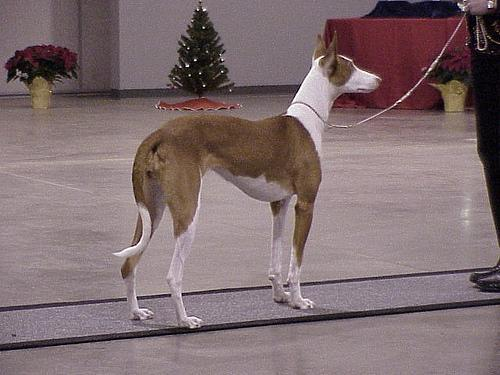Ibizan_hound: (111, 29, 382, 330)
